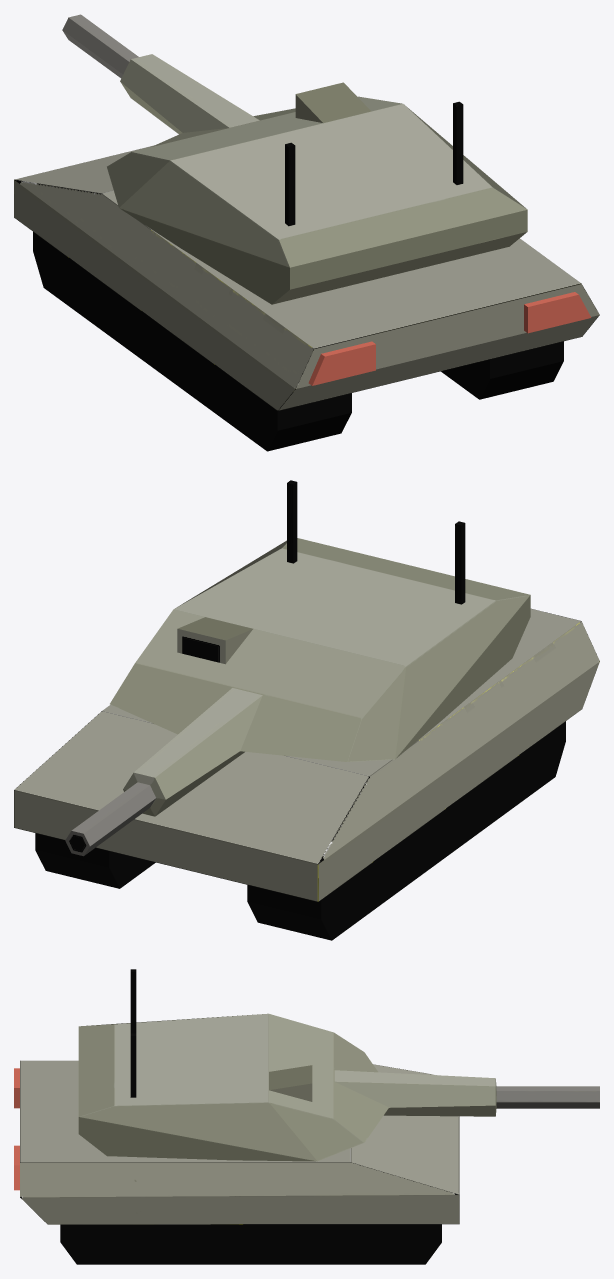
The model's file is tank_gen_2.gltf.
The picture shows the model from 3 angles, top to bottom: view 1: azimuth 30°, elevation 25°; view 2: azimuth 150°, elevation 25°; view 3: azimuth 270°, elevation 25°; orthographic projection. The views are drawn at different scales.
Parts seen in each view (by area): view 1: Head, Body, Track2, TailLight1; view 2: Head, Body, Track2; view 3: Head, Body, Track2, TailLight1.
Boxes of the visible parts, x1,y1,x2,y2 form: Head: (62, 14, 527, 304); Body: (14, 145, 599, 410); Track2: (33, 232, 563, 451); TailLight1: (308, 292, 591, 385); Head: (65, 480, 530, 856); Body: (14, 608, 599, 901); Track2: (35, 721, 565, 940); Head: (78, 969, 599, 1161); Body: (20, 1060, 459, 1224); Track2: (60, 1224, 441, 1264); TailLight1: (14, 1068, 19, 1190).
Size of the model in its own units: 16.34 by 13.63 by 34.92.
Materials: 4 (2 with a texture image).
